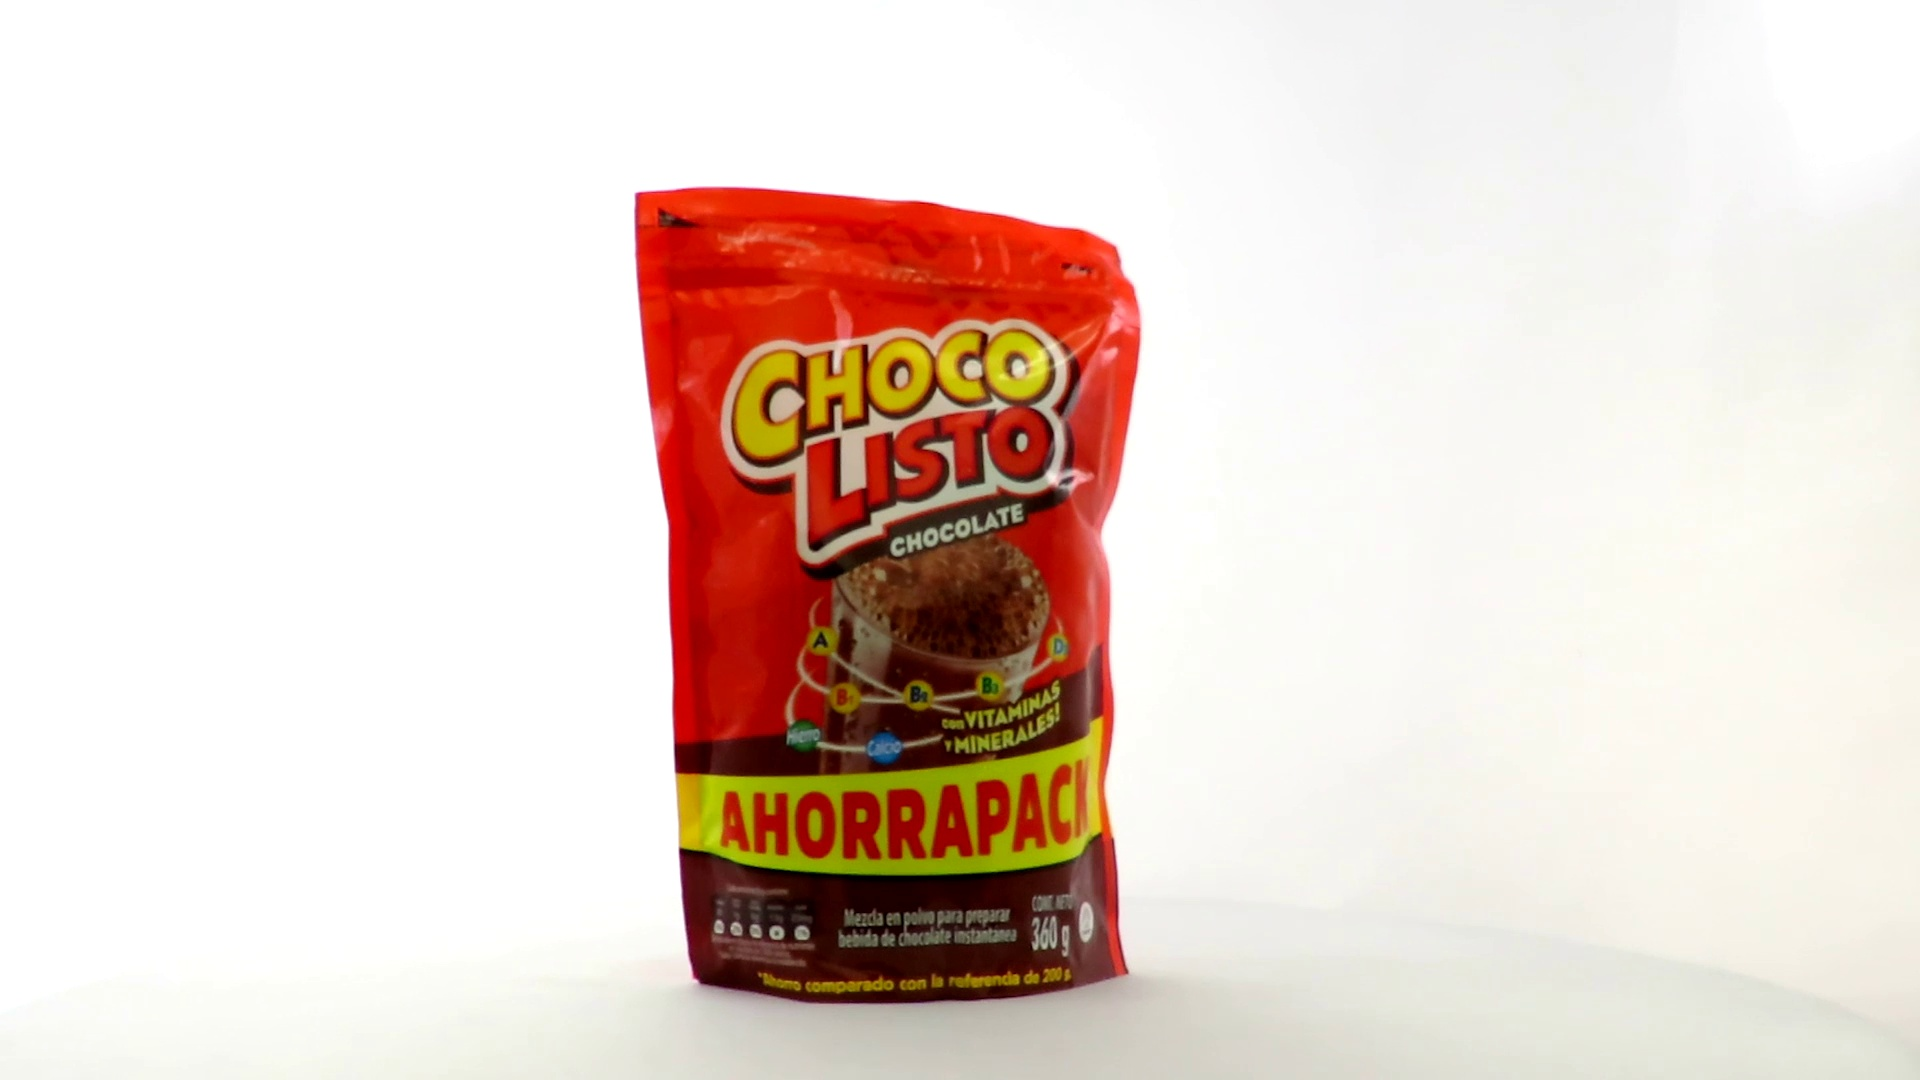COL0170103DYP36000: (629, 182, 1147, 1010)
